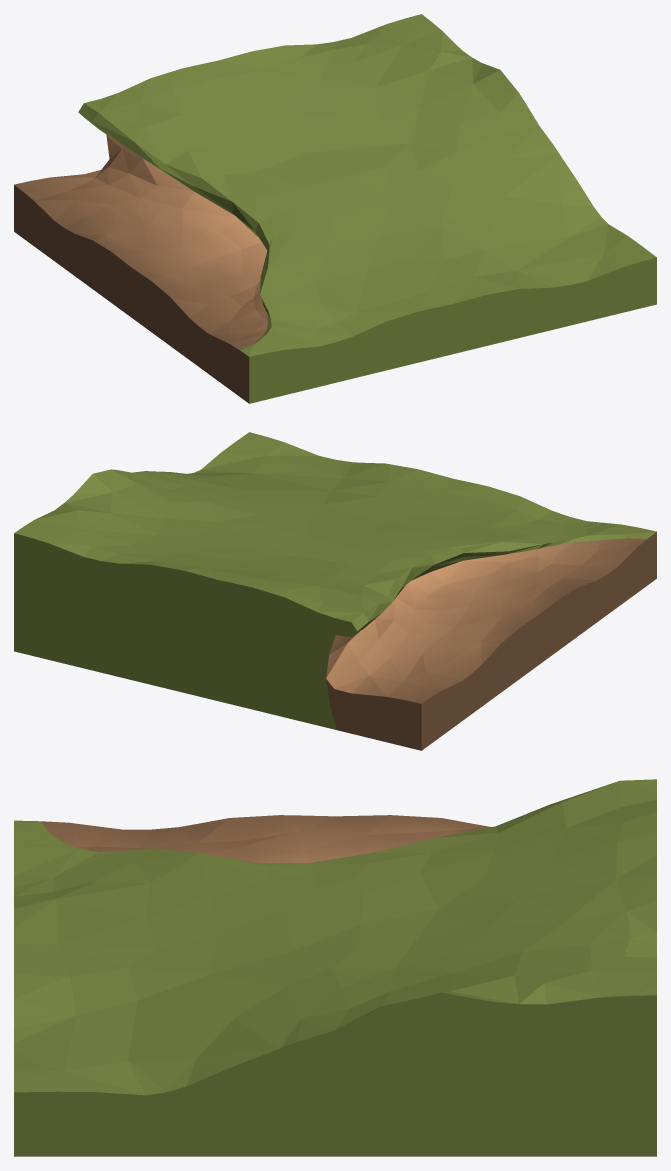
Rendered from Terrian_Cliff_Flat_End-02.fbx.
The picture shows the model from 3 angles, top to bottom: view 1: azimuth 30°, elevation 25°; view 2: azimuth 150°, elevation 25°; view 3: azimuth 270°, elevation 25°; orthographic projection. The views are drawn at different scales.
Parts seen in each view (by area): view 1: Terrian_Cliff_Flat_End-02; view 2: Terrian_Cliff_Flat_End-02; view 3: Terrian_Cliff_Flat_End-02.
Part boxes in pixels (x1,y1,x2,y2): Terrian_Cliff_Flat_End-02: (14,14,656,403); Terrian_Cliff_Flat_End-02: (14,432,656,750); Terrian_Cliff_Flat_End-02: (14,779,656,1156).
Bounding box in the file's own units: 3600 × 1031 × 3600.
Materials: 1 (1 with a texture image).
